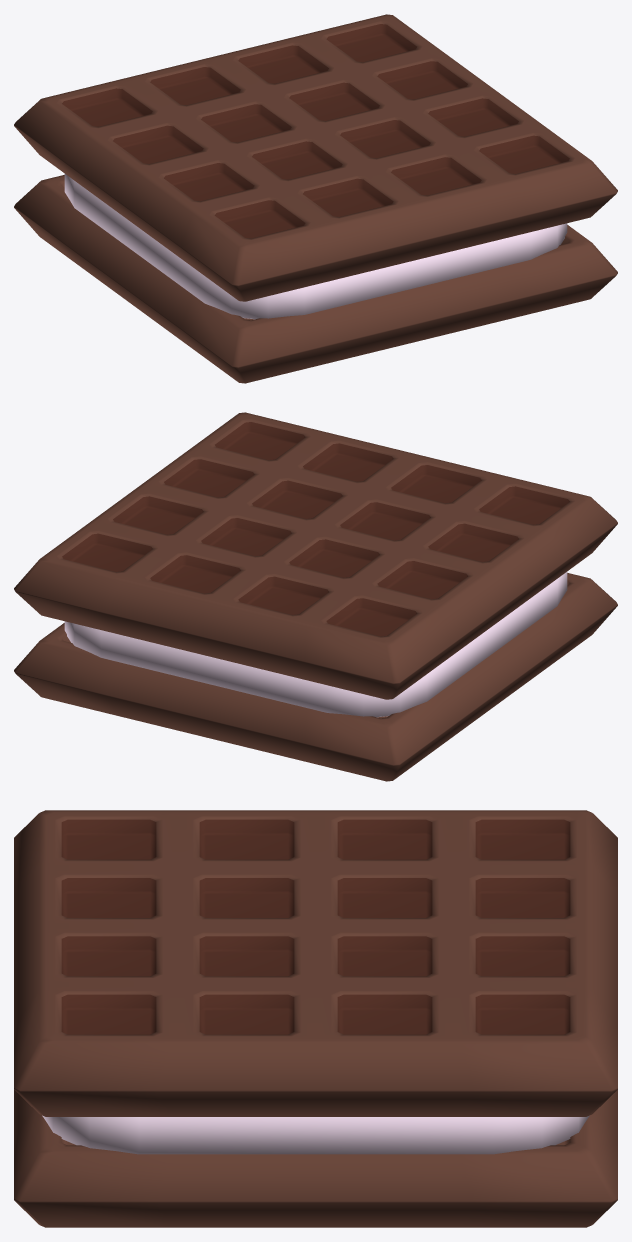
Rendered from WaffleChocolate.fbx.
The picture shows the model from 3 angles, top to bottom: view 1: azimuth 30°, elevation 25°; view 2: azimuth 150°, elevation 25°; view 3: azimuth 270°, elevation 25°; orthographic projection. The views are drawn at different scales.
Visible parts, largest first — view 1: Cube.001; view 2: Cube.001; view 3: Cube.001.
Boxes of the visible parts, x1,y1,x2,y2 form: Cube.001: (14, 14, 617, 383); Cube.001: (14, 412, 617, 781); Cube.001: (14, 810, 617, 1227).
Bounding box in the file's own units: 219 × 219 × 74.15.
